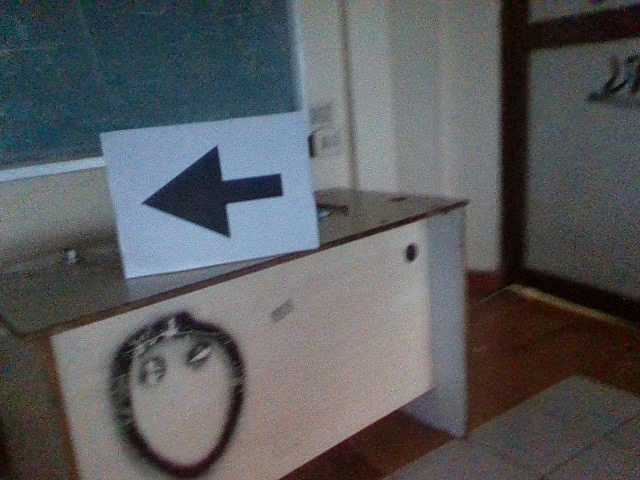Left: (135, 141, 287, 243)
